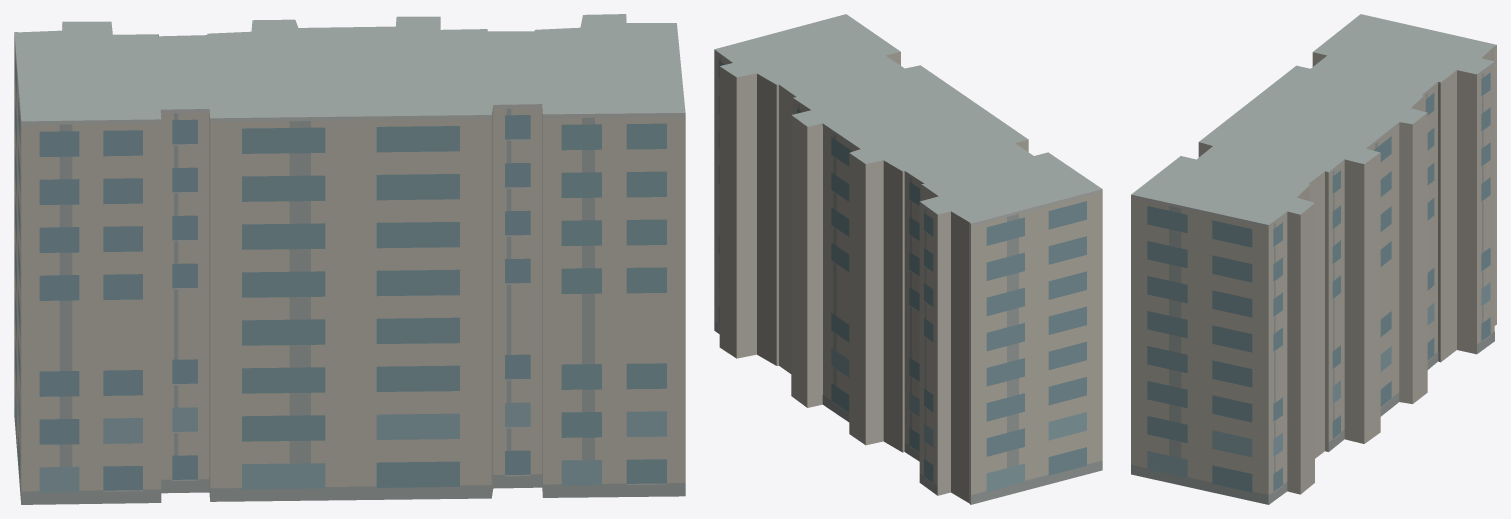
Rendered from survey-upis-32870070.glb.
3 renders of one model, left to right at view 1: azimuth 30°, elevation 25°; view 2: azimuth 150°, elevation 25°; view 3: azimuth 270°, elevation 25°, orthographic. The views are drawn at different scales.
Parts seen in each view (by area): view 1: survey-upis-32870070.tmp; view 2: survey-upis-32870070.tmp; view 3: survey-upis-32870070.tmp.
Part boxes in pixels (x1,y1,x2,y2): survey-upis-32870070.tmp: (14,14,685,504); survey-upis-32870070.tmp: (714,14,1102,504); survey-upis-32870070.tmp: (1131,14,1496,504).
Bounding box in the file's own units: 38.17 × 23.6 × 27.96.
